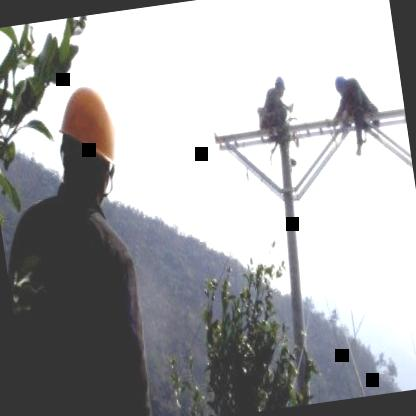helmet: (44, 72, 130, 218), (330, 72, 352, 100), (271, 72, 289, 102)
